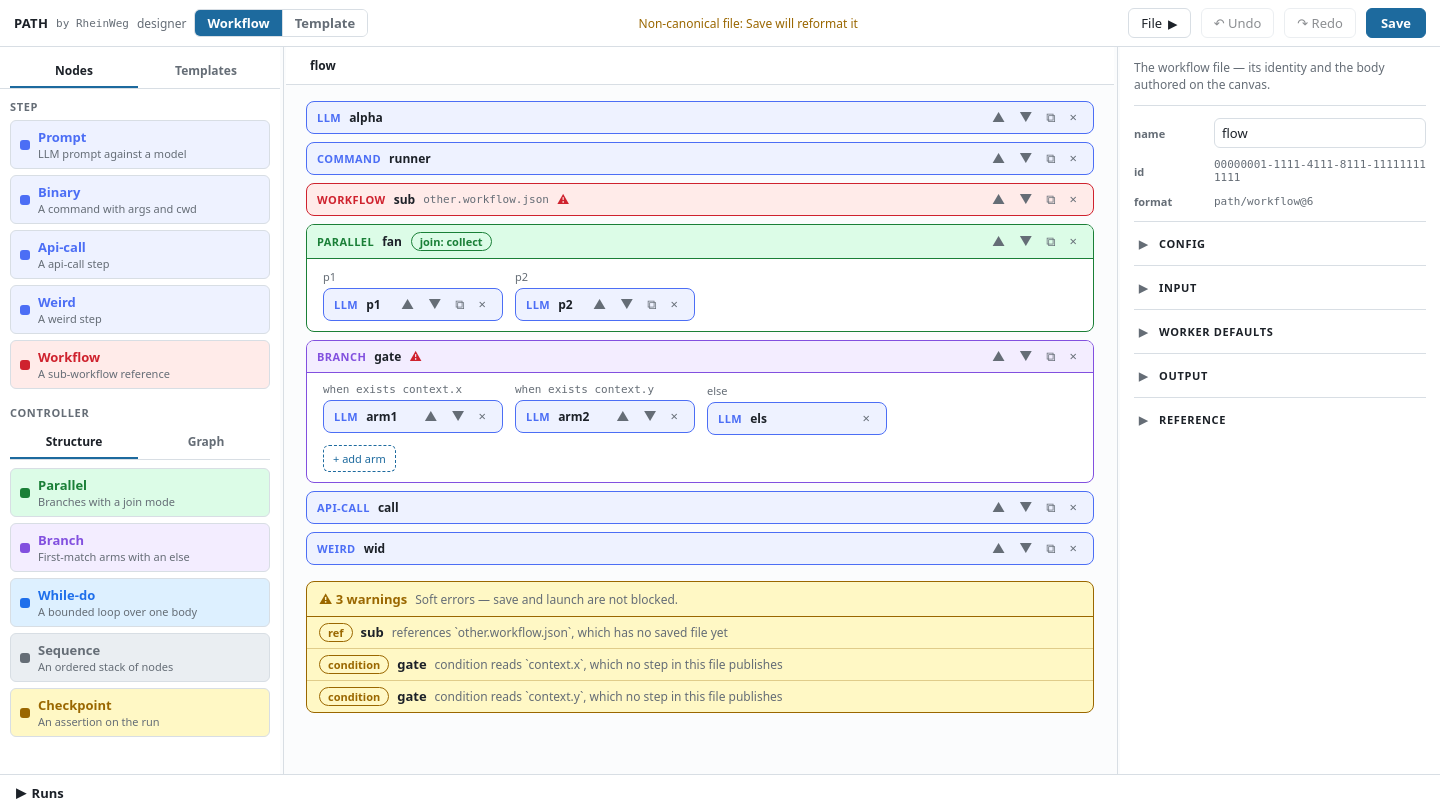
Test: selection populates the pane › keeps name and id always shown, opens the kind fields expanded, and the payload regions collapsed
Expected: the text "alpha" is shown, [349,109,383,126]
Click the text "alpha".
click(700, 118)  # box [306,101,1094,134]
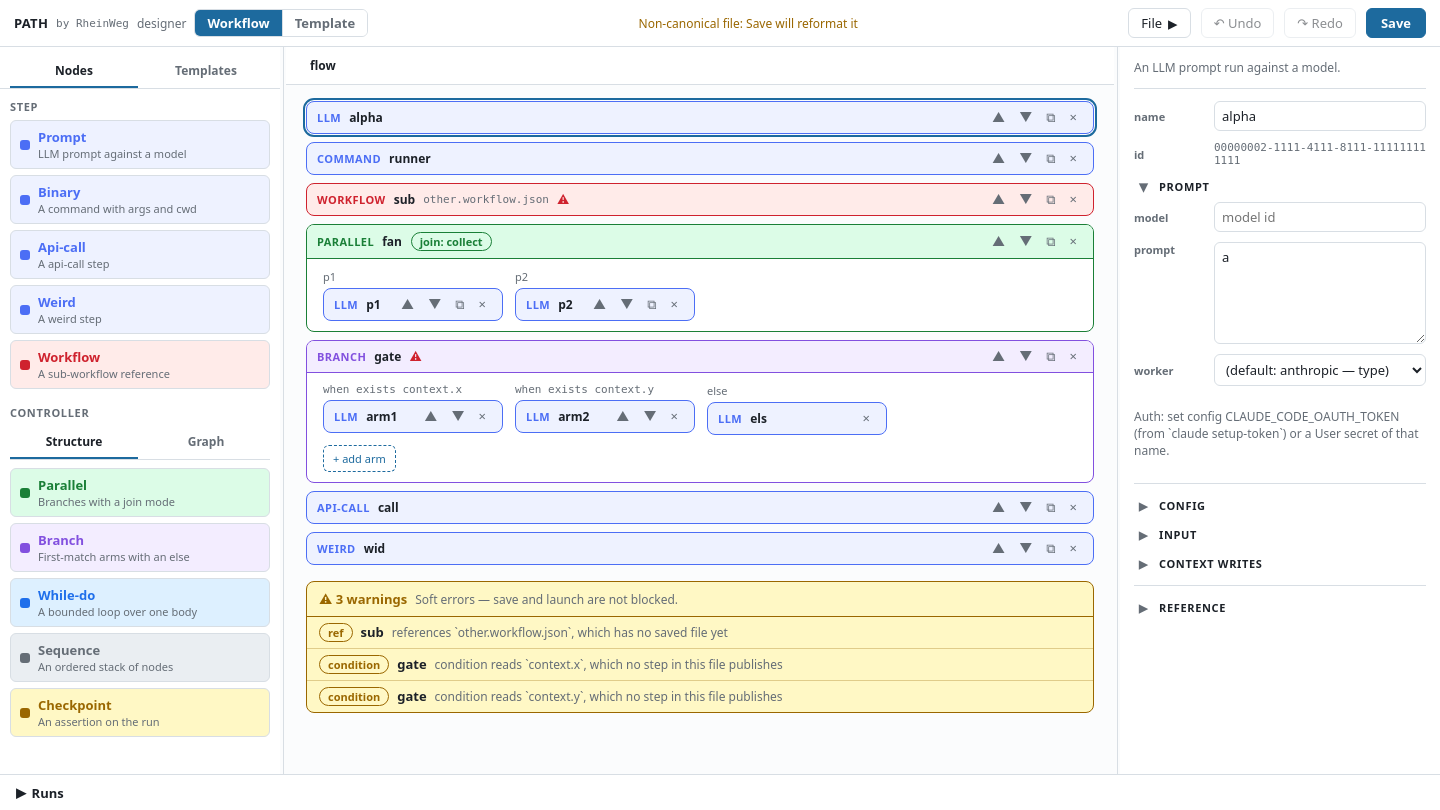
Result: the field labelled "name" holds "alpha" at [1214,101,1426,131]
Result: the text "identity" is gone
Result: the text box labelled "prompt" is shown at [1214,242,1426,344]
Click the button "▾ prompt".
click(1172, 186)  # box [1134,177,1210,196]
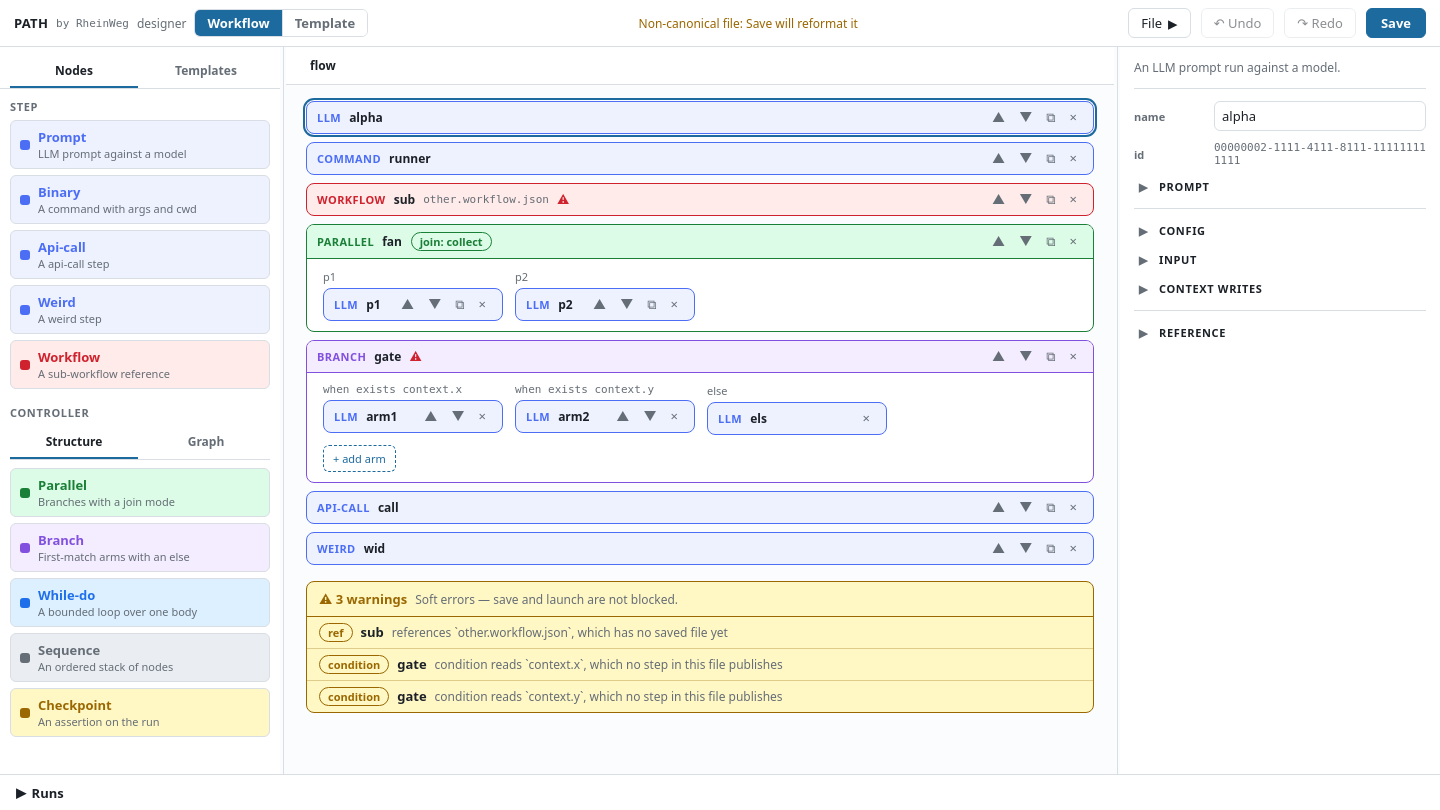
Result: the field labelled "name" holds "alpha" at [1214,101,1426,131]
Click the button "▸ config".
click(1170, 230)  # box [1134,221,1206,240]
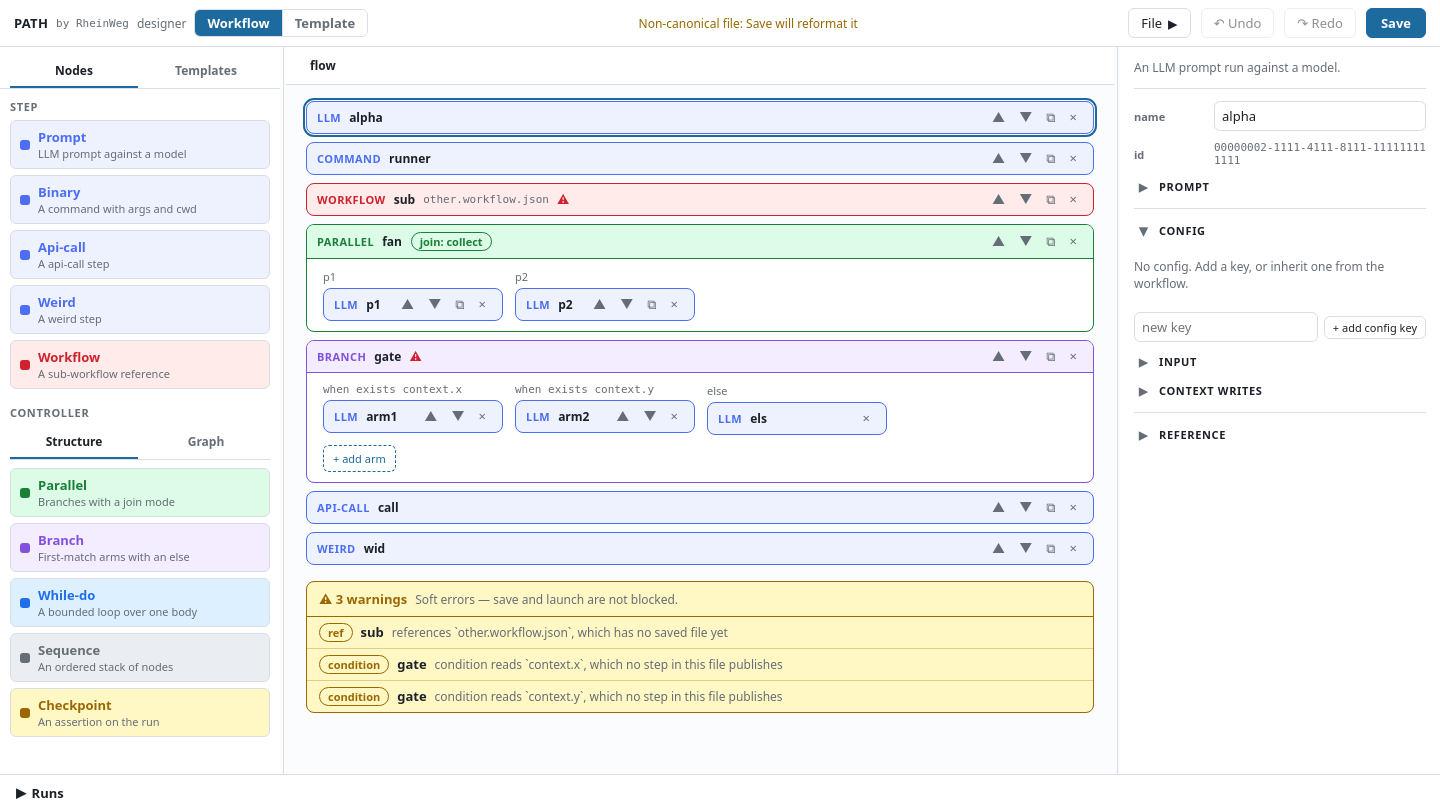
Result: the field named "New config key" is shown at [1134,312,1318,342]
Click the text "runner".
click(700, 158)  # box [306,142,1094,175]
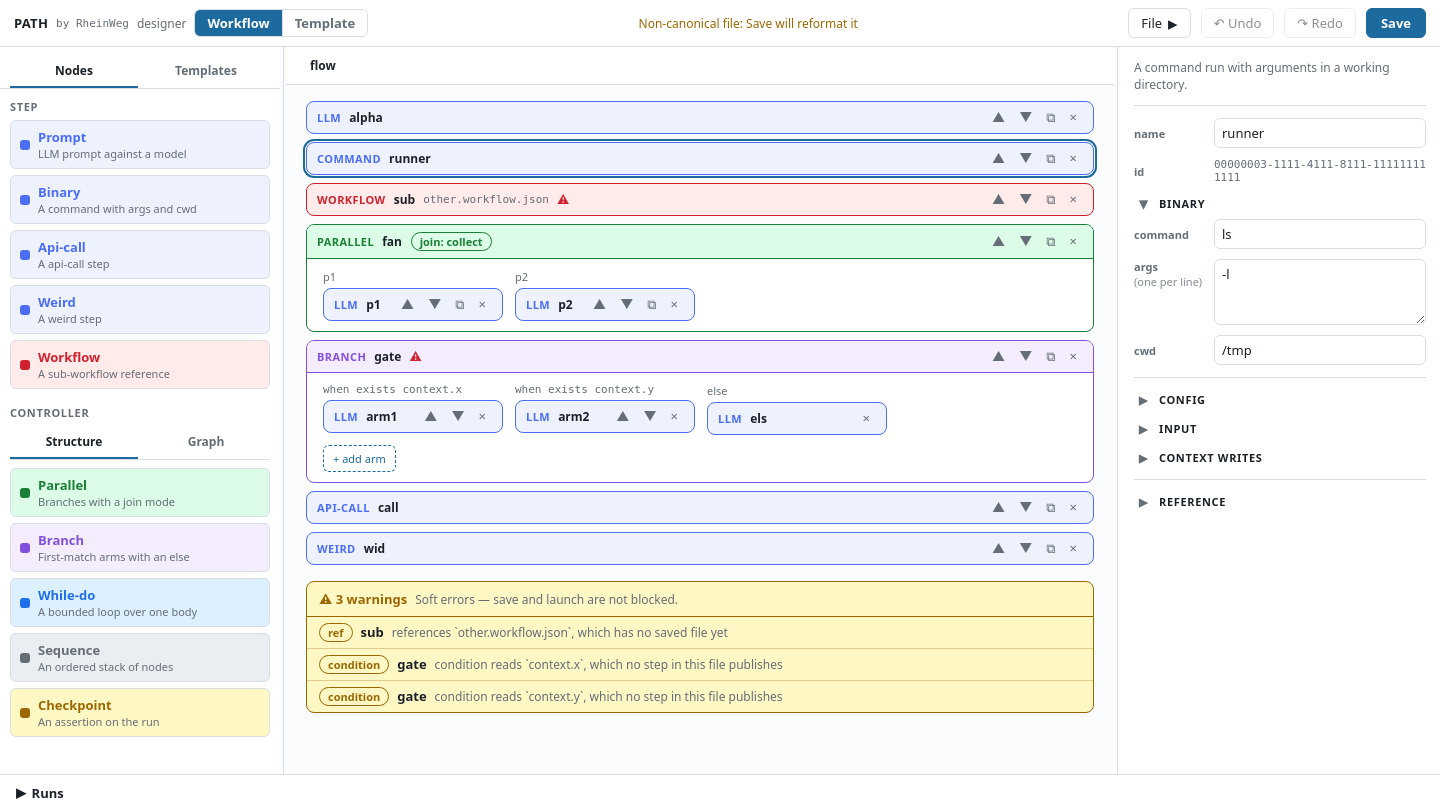
Result: the field labelled "command" is shown at [1214,219,1426,249]
Result: the field labelled "name" holds "runner" at [1214,118,1426,148]
